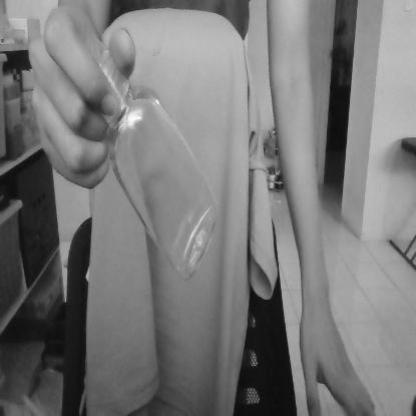Plastic Bottle: (96, 50, 221, 280)
